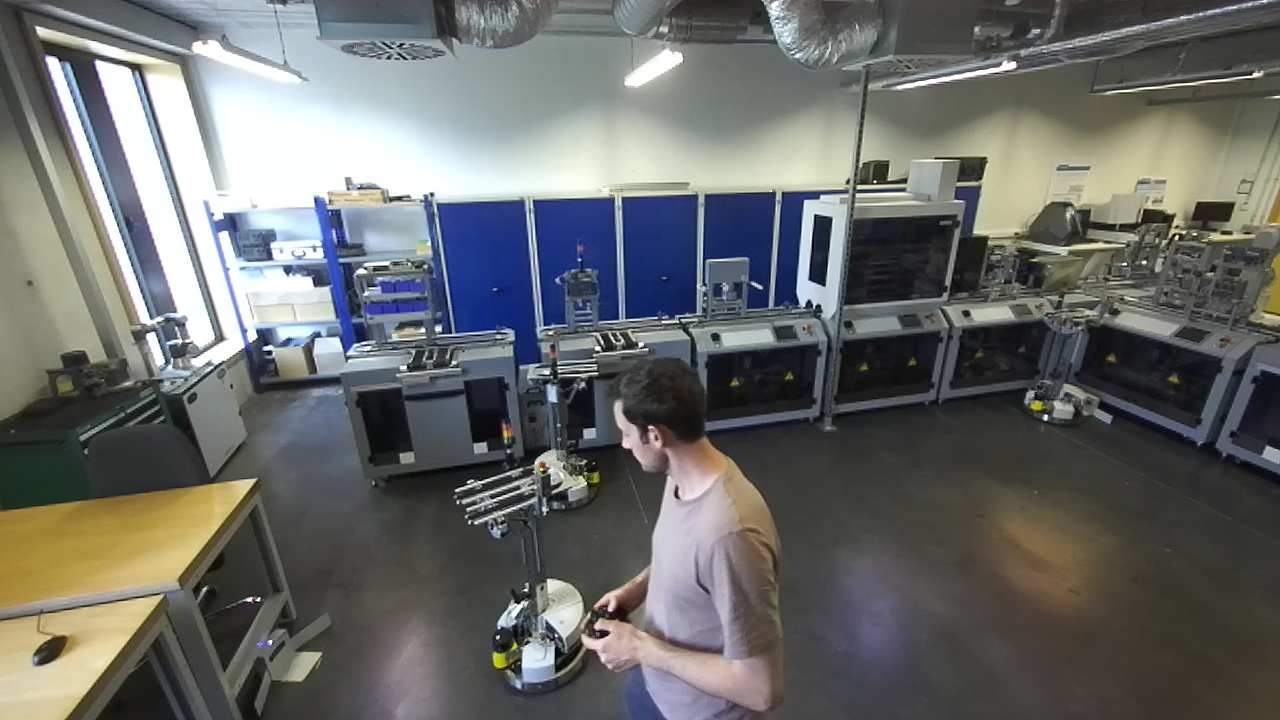AMR: (445, 418, 588, 690), (528, 332, 599, 513), (1027, 281, 1113, 426)
Human: (576, 359, 792, 720)
